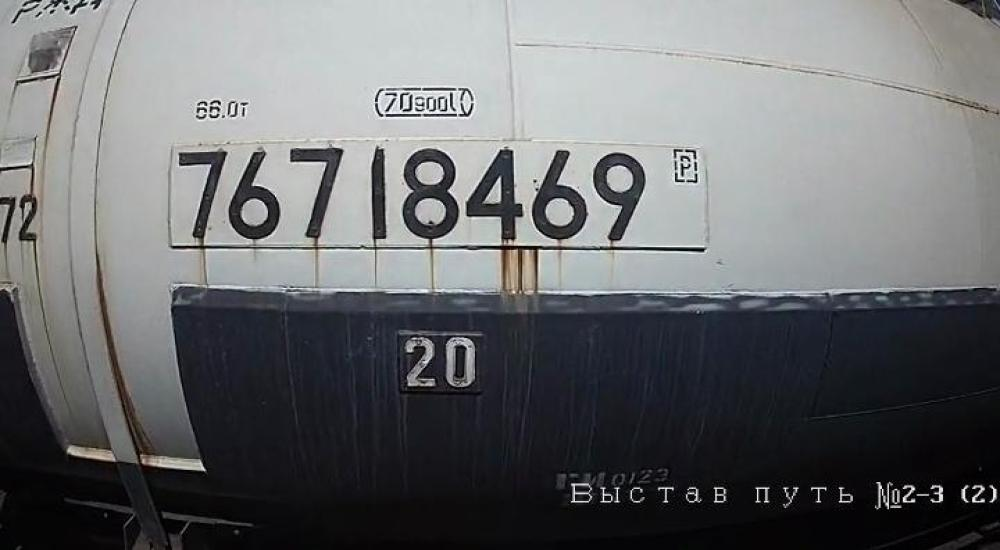Wagon-number: (172, 141, 651, 249)
